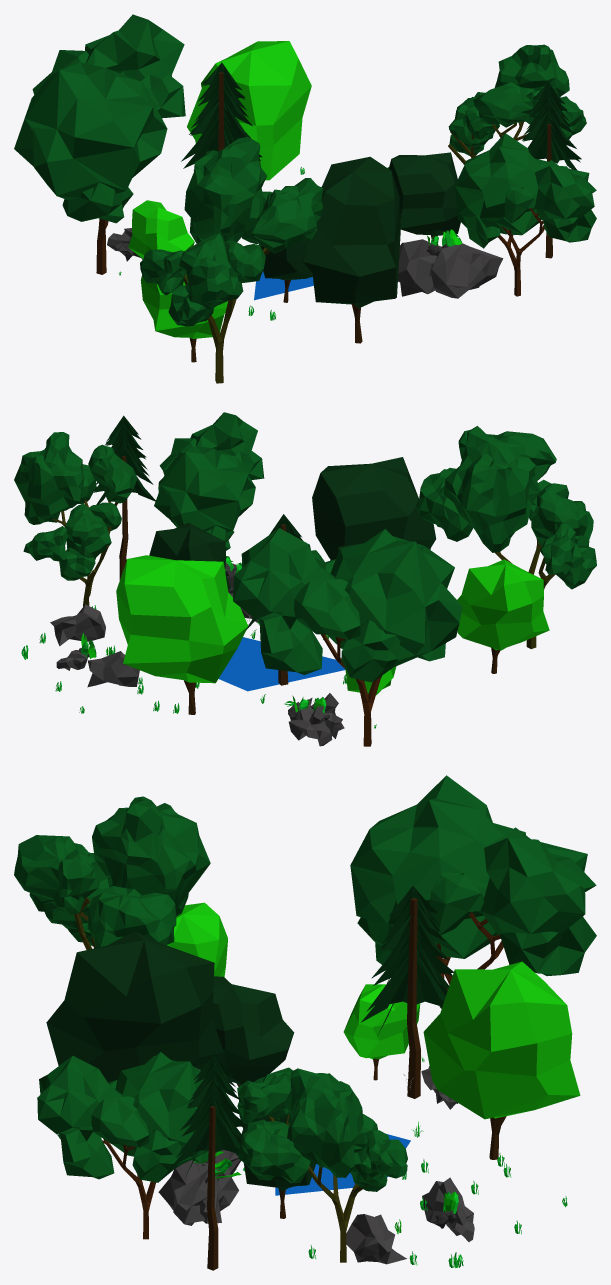
Rendered from tex.obj.
The picture shows the model from 3 angles, top to bottom: view 1: azimuth 30°, elevation 25°; view 2: azimuth 150°, elevation 25°; view 3: azimuth 270°, elevation 25°; orthographic projection. The views are drawn at different scales.
Parts seen in each view (by area): view 1: Crown.001, Crown.005_Crown.002, Tree_PROXY.001_Cylinder.002, Crown, Tree_PROXY.005_Cylinder.001, Crown.004_Crown.002, Tree_PROXY_Cylinder.002, Crown.003_Vert, LP_Stone_B.004_Mesh.008, Crown.002_Vert, Tree_PROXY.004_Cylinder.001, Tree_PROXY.003_Cylinder.001 (+6 smaller); view 2: Crown.001, Crown.005_Crown.002, Tree_PROXY.005_Cylinder.001, Crown.004_Crown.002, Crown, Tree_PROXY.001_Cylinder.002, Tree_PROXY.003_Cylinder.001, Плоскость.001_Плоскость.003, Tree_PROXY_Cylinder.002, Crown.002_Vert, LP_Stone_B.001_Mesh.001, LP_Stone_B_Mesh.003 (+7 smaller); view 3: Crown.001, Crown.005_Crown.002, Tree_PROXY.005_Cylinder.001, Tree_PROXY.001_Cylinder.002, Crown, Crown.004_Crown.002, Tree_PROXY.002_Cylinder.002, Crown.003_Vert, Crown.002_Vert, Tree_PROXY.004_Cylinder.001, Tree_PROXY.003_Cylinder.001, LP_Stone_B.004_Mesh.008 (+10 smaller).
Part boxes in pixels (x1=…): Crown.001: x1=14, y1=14, x2=185, y2=223; Crown.005_Crown.002: x1=140, y1=136, x2=323, y2=326; Tree_PROXY.001_Cylinder.002: x1=302, y1=156, x2=400, y2=343; Crown: x1=455, y1=133, x2=596, y2=248; Tree_PROXY.005_Cylinder.001: x1=187, y1=41, x2=311, y2=180; Crown.004_Crown.002: x1=448, y1=44, x2=586, y2=155; Tree_PROXY_Cylinder.002: x1=388, y1=152, x2=460, y2=240; Crown.003_Vert: x1=181, y1=62, x2=262, y2=170; LP_Stone_B.004_Mesh.008: x1=430, y1=243, x2=503, y2=298; Crown.002_Vert: x1=522, y1=81, x2=581, y2=170; Tree_PROXY.004_Cylinder.001: x1=128, y1=200, x2=194, y2=259; Tree_PROXY.003_Cylinder.001: x1=140, y1=252, x2=227, y2=362; Crown.001: x1=233, y1=528, x2=462, y2=682; Crown.005_Crown.002: x1=415, y1=426, x2=596, y2=589; Tree_PROXY.005_Cylinder.001: x1=116, y1=555, x2=248, y2=714; Crown.004_Crown.002: x1=14, y1=432, x2=137, y2=580; Crown: x1=154, y1=412, x2=264, y2=550; Tree_PROXY.001_Cylinder.002: x1=312, y1=457, x2=436, y2=559; Tree_PROXY.003_Cylinder.001: x1=457, y1=559, x2=549, y2=673; Плоскость.001_Плоскость.003: x1=218, y1=637, x2=345, y2=691; Tree_PROXY_Cylinder.002: x1=149, y1=522, x2=230, y2=589; Crown.002_Vert: x1=94, y1=415, x2=155, y2=504; LP_Stone_B.001_Mesh.001: x1=50, y1=604, x2=105, y2=646; LP_Stone_B_Mesh.003: x1=87, y1=651, x2=139, y2=687; Crown.001: x1=350, y1=775, x2=596, y2=975; Crown.005_Crown.002: x1=14, y1=796, x2=210, y2=947; Tree_PROXY.005_Cylinder.001: x1=423, y1=961, x2=580, y2=1159; Tree_PROXY.001_Cylinder.002: x1=46, y1=931, x2=223, y2=1082; Crown: x1=37, y1=1052, x2=208, y2=1182; Crown.004_Crown.002: x1=237, y1=1067, x2=407, y2=1191; Tree_PROXY.002_Cylinder.002: x1=195, y1=976, x2=294, y2=1086; Crown.003_Vert: x1=361, y1=886, x2=453, y2=1036; Crown.002_Vert: x1=171, y1=1055, x2=247, y2=1176; Tree_PROXY.004_Cylinder.001: x1=343, y1=984, x2=420, y2=1080; Tree_PROXY.003_Cylinder.001: x1=167, y1=902, x2=227, y2=977; LP_Stone_B.004_Mesh.008: x1=158, y1=1160, x2=208, y2=1225.
Size of what is drawn, in the model's own units: 20.01 by 9.02 by 16.82.
